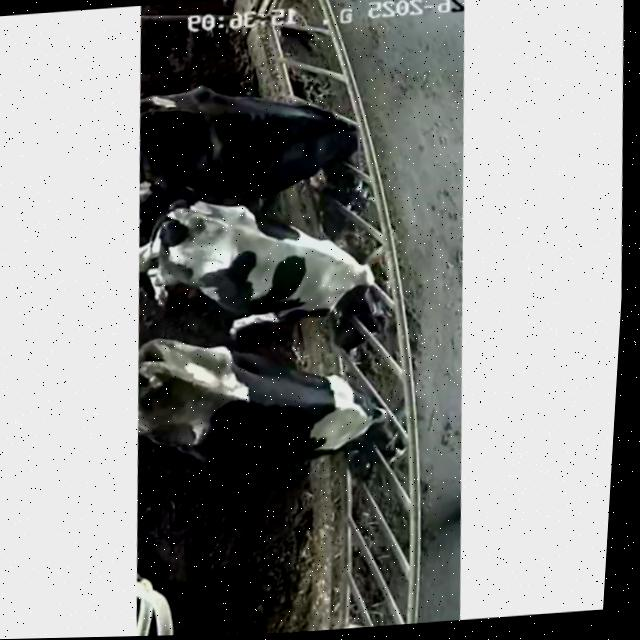eat: (254, 89, 431, 219), (269, 377, 449, 499), (253, 234, 436, 347)
